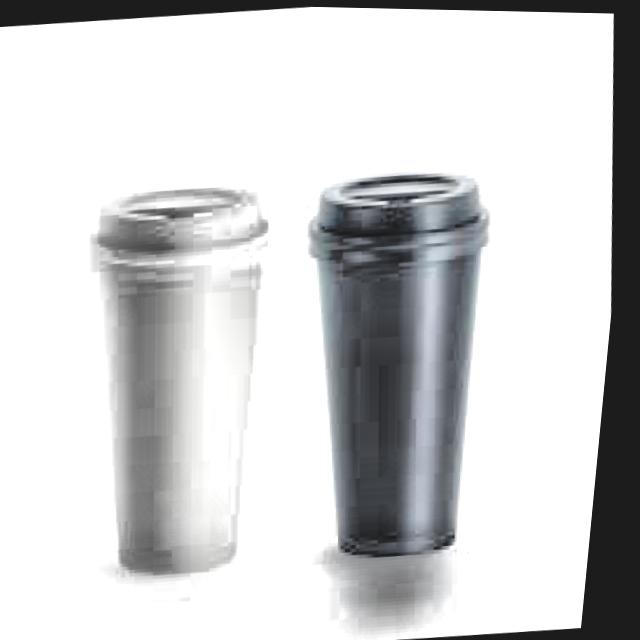Cup: (60, 212, 301, 582), (284, 209, 523, 574)
